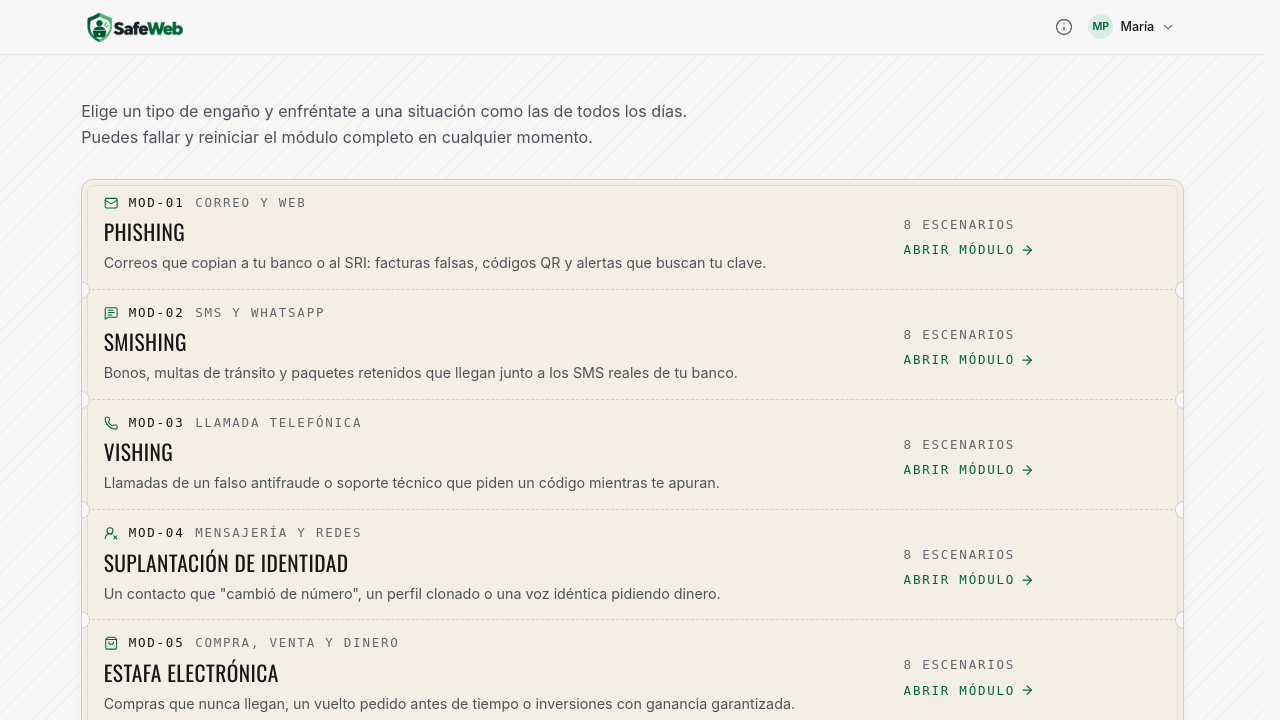
Test: Dashboard › siempre ofrece el enlace al recorrido propio
Click the button "MP María" at (1134, 27), box [1084, 7, 1184, 47]
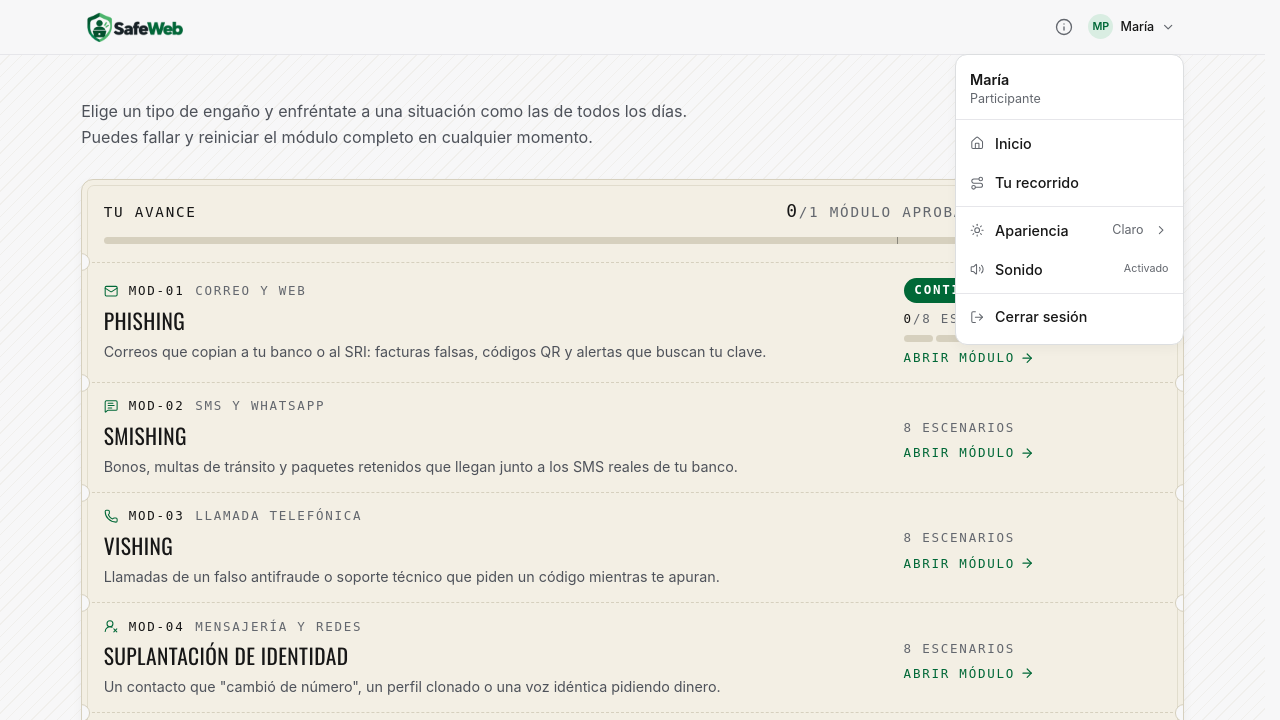
Expected: the menu item "Tu recorrido" is shown, [970, 174, 1079, 191]
